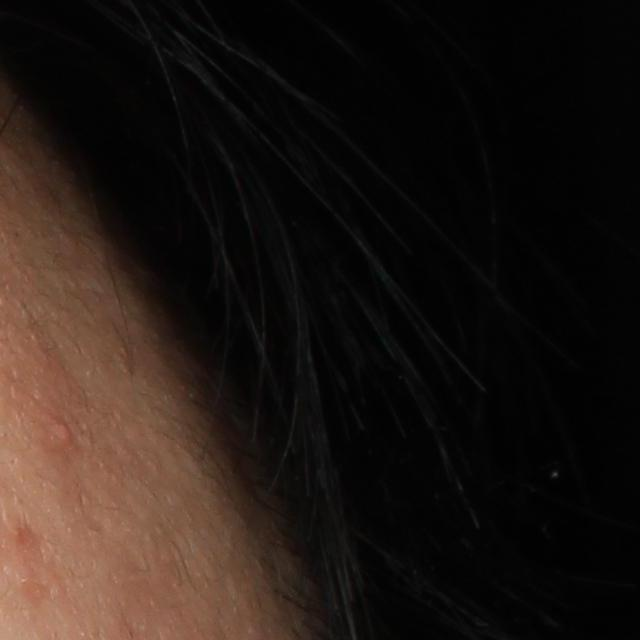papule: (50, 416, 75, 447)
